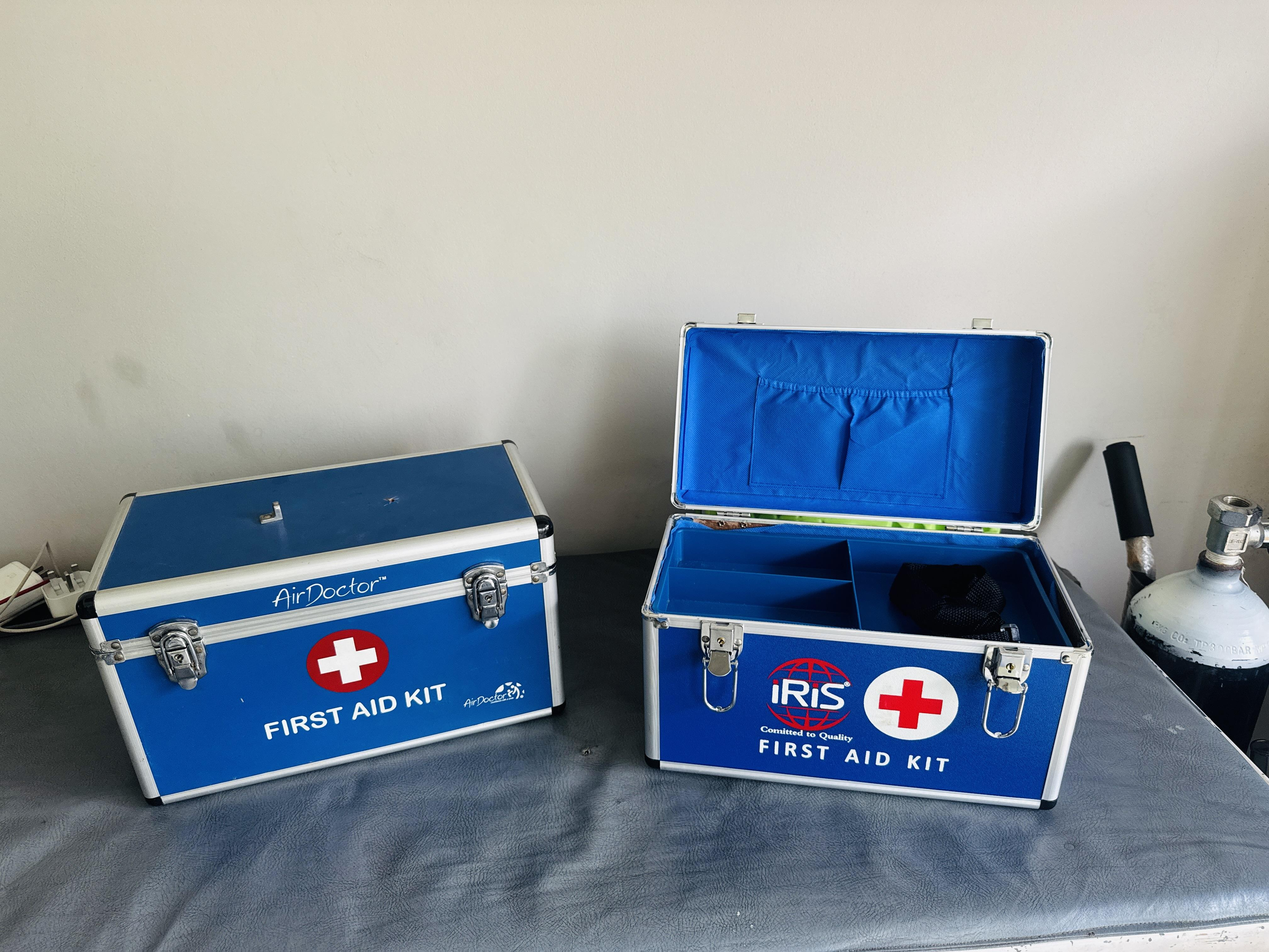FirstAidBox: (631, 268, 1106, 827), (64, 437, 578, 813)
